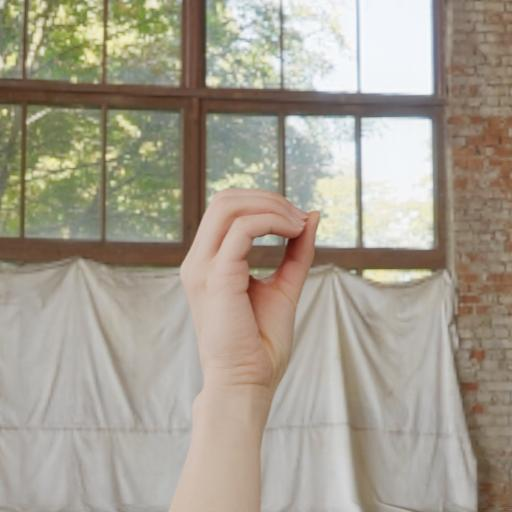O: (171, 176, 333, 512)
